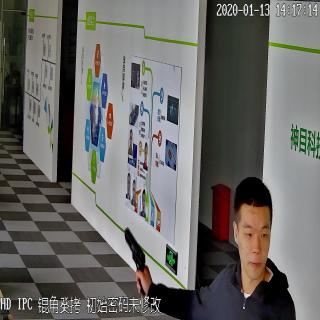gun: (123, 225, 148, 291)
